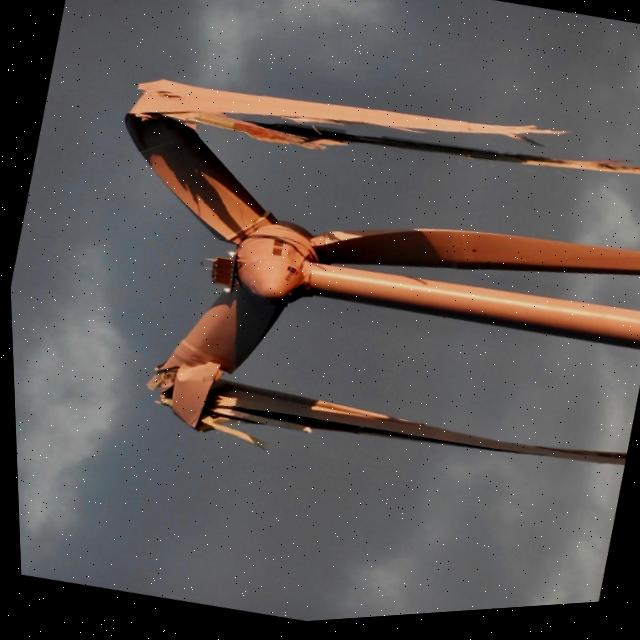damaged-blade: (147, 294, 621, 472), (125, 80, 563, 244), (129, 80, 640, 183), (124, 115, 274, 246), (318, 134, 640, 183)
